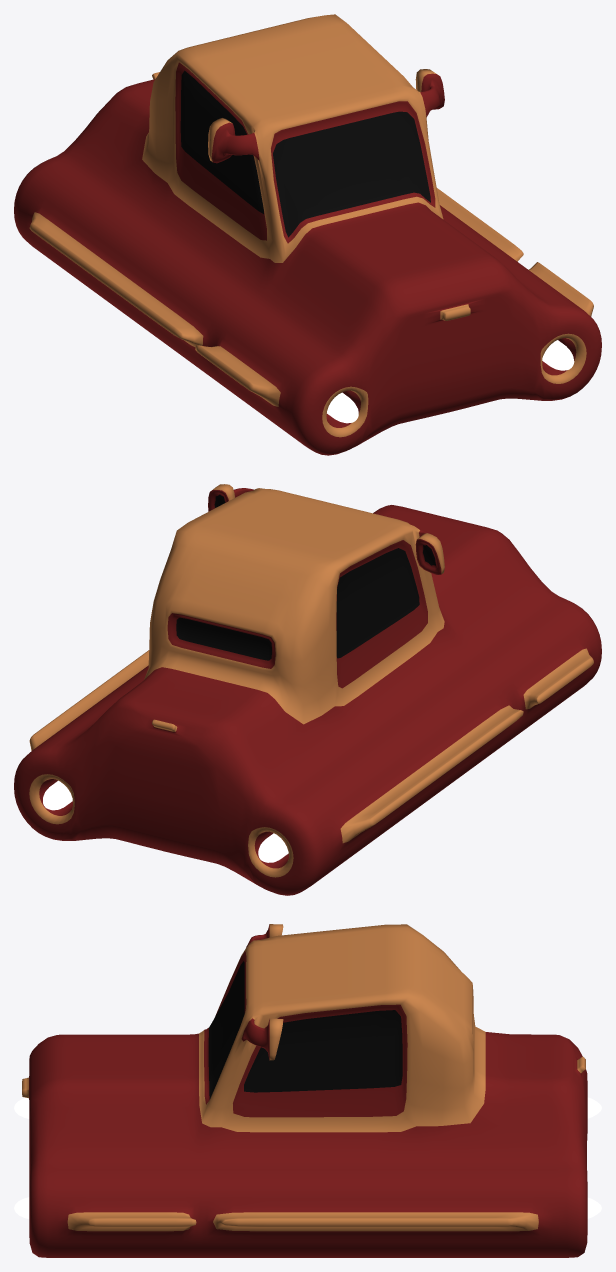
The model's file is Cab1.glb.
The picture shows the model from 3 angles, top to bottom: view 1: azimuth 30°, elevation 25°; view 2: azimuth 150°, elevation 25°; view 3: azimuth 270°, elevation 25°; orthographic projection. The views are drawn at different scales.
Visible parts, largest first — view 1: Car; view 2: Car; view 3: Car.
Part boxes in pixels (x1=…): Car: x1=14, y1=14, x2=601, y2=455; Car: x1=14, y1=484, x2=601, y2=895; Car: x1=14, y1=924, x2=601, y2=1257.
Size of the model in its own units: 94.63 by 66.64 by 147.
